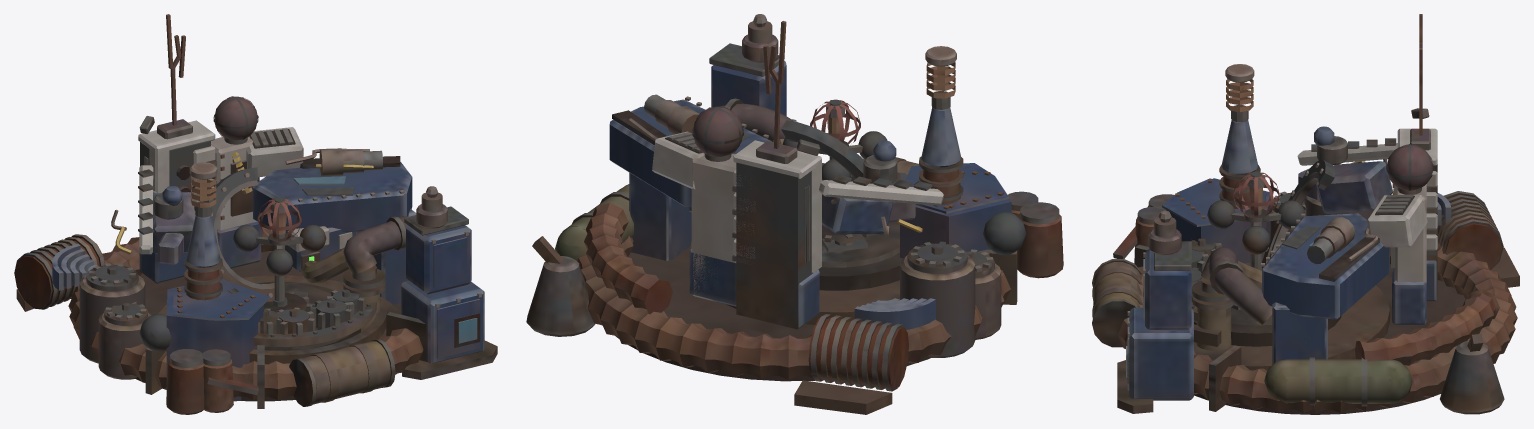
File: electromagnetic-plant.glb
The picture shows the model from 3 angles, left to right: view 1: azimuth 30°, elevation 25°; view 2: azimuth 150°, elevation 25°; view 3: azimuth 270°, elevation 25°; orthographic projection. The views are drawn at different scales.
Parts seen in each view (by area): view 1: body, anim_spin_arms; view 2: body, anim_spin_arms; view 3: body, anim_spin_arms.
Part boxes in pixels (x1,y1,x2,y2): body: [14, 14, 497, 414]; anim_spin_arms: [233, 197, 326, 276]; body: [526, 14, 1063, 414]; anim_spin_arms: [782, 100, 887, 180]; body: [1092, 14, 1519, 414]; anim_spin_arms: [1207, 172, 1304, 254].
Bounding box in the file's own units: 3.69 × 2.98 × 3.84.
2 materials, 2 textured.
